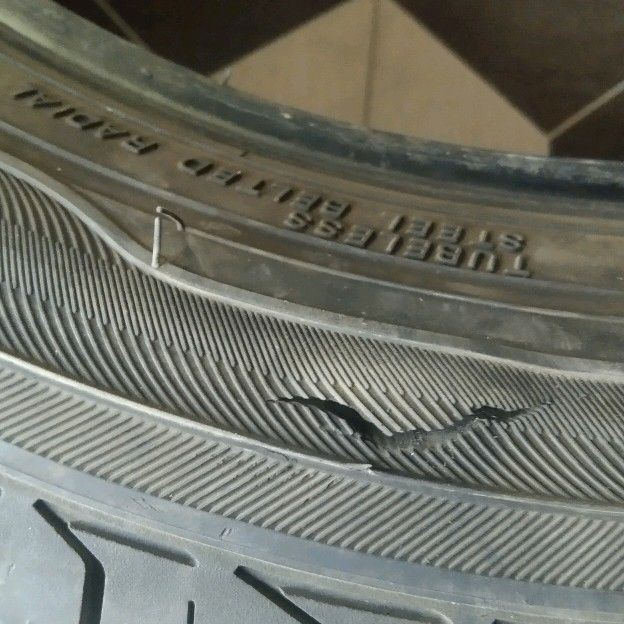cut: (266, 395, 562, 457)
